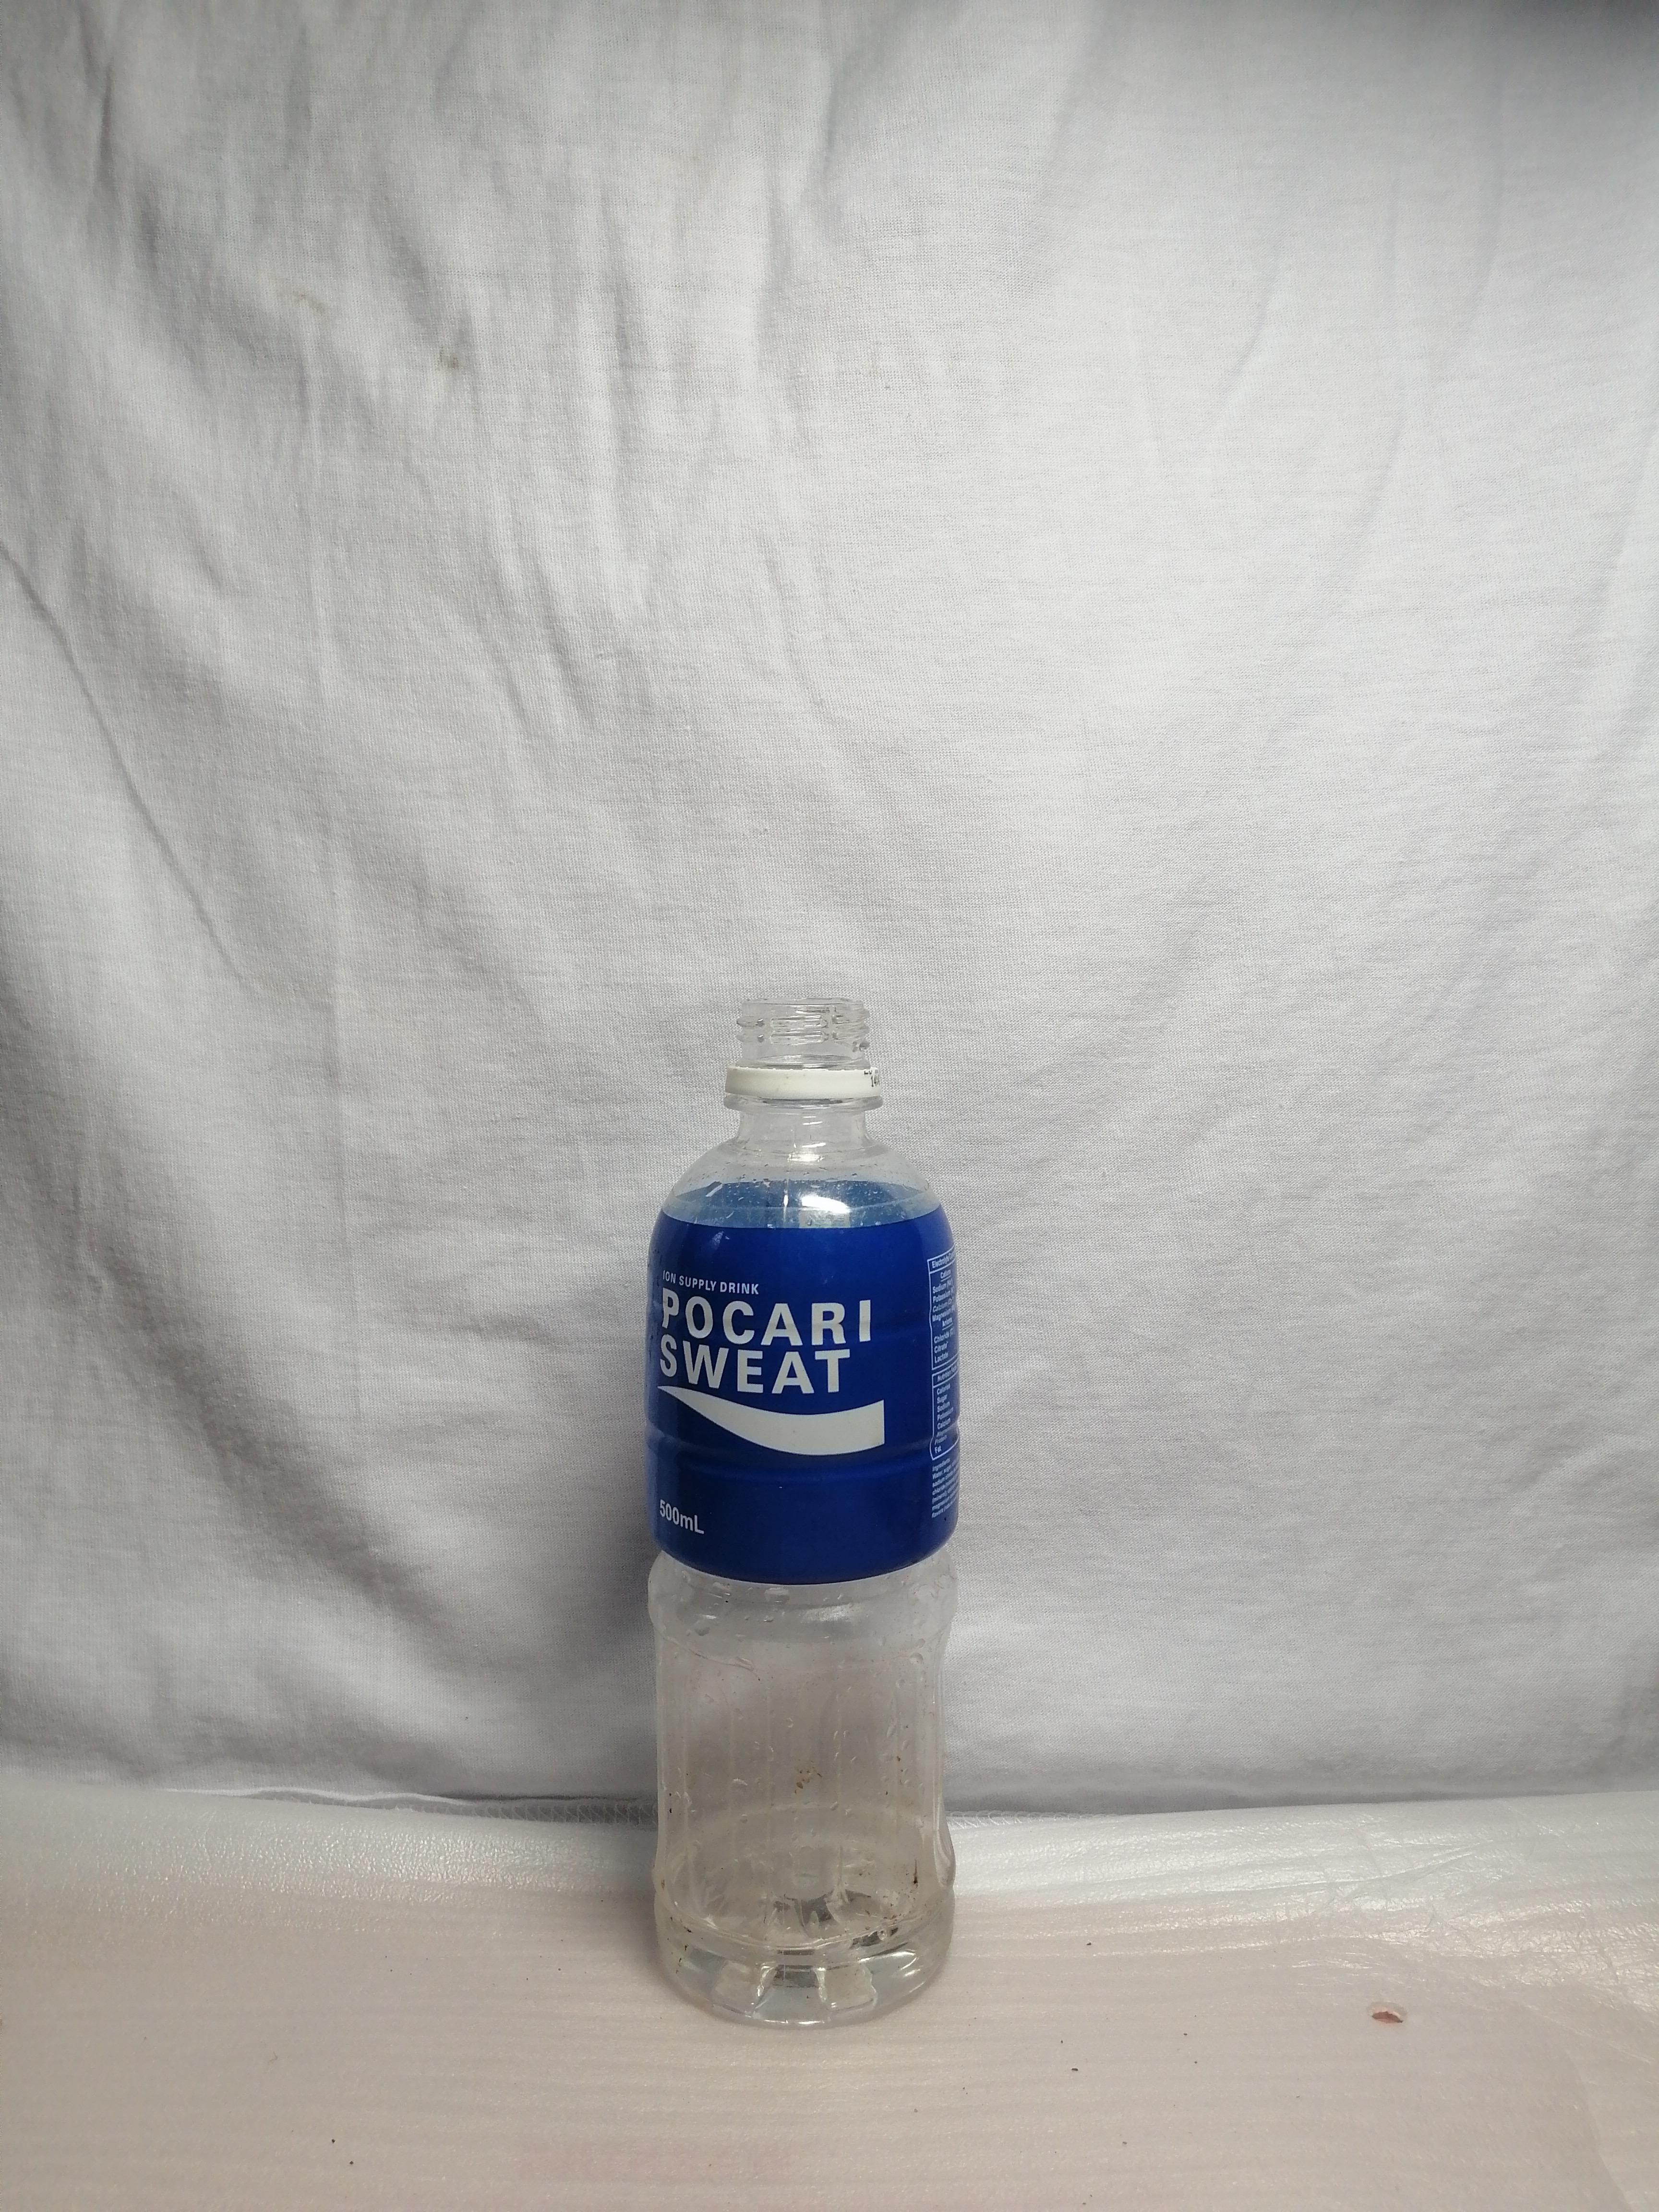plastic-bottle: (590, 950, 1027, 2069)
